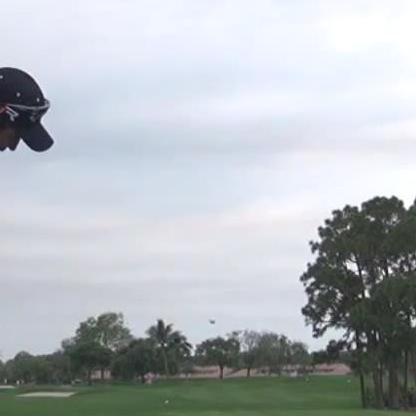golfball: (207, 316, 216, 325)
